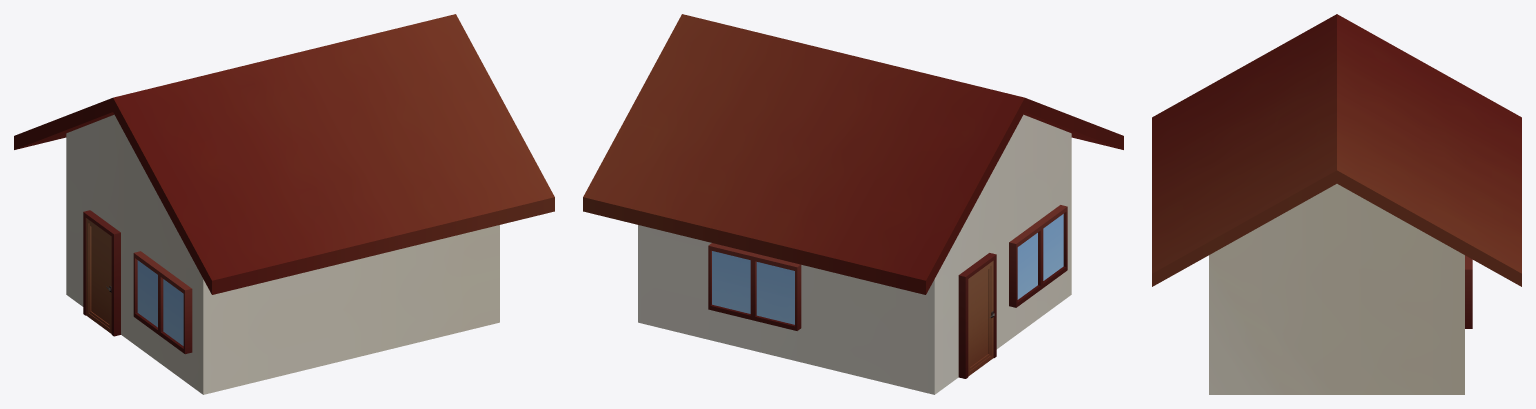
Rendered from SM_Pop_House.fbx.
3 views of the same model, side by side, from view 1: azimuth 30°, elevation 25°; view 2: azimuth 150°, elevation 25°; view 3: azimuth 270°, elevation 25° (orthographic). The views are drawn at different scales.
Parts seen in each view (by area): view 1: House_LOD0; view 2: House_LOD0; view 3: House_LOD0.
Part boxes in pixels (bbox=[...]): House_LOD0: bbox=[14, 14, 554, 394]; House_LOD0: bbox=[583, 14, 1123, 394]; House_LOD0: bbox=[1152, 14, 1521, 394].
Size of what is drawn, in the model's own units: 5.78 by 4.07 by 5.78.
